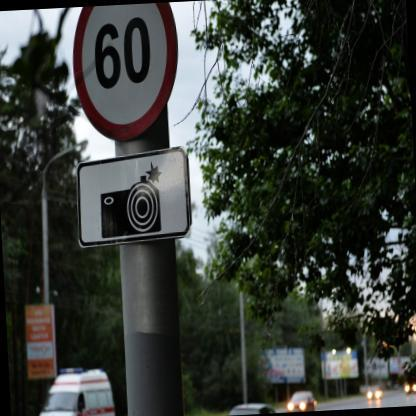road_sign: (74, 3, 178, 140), (77, 148, 191, 248)
